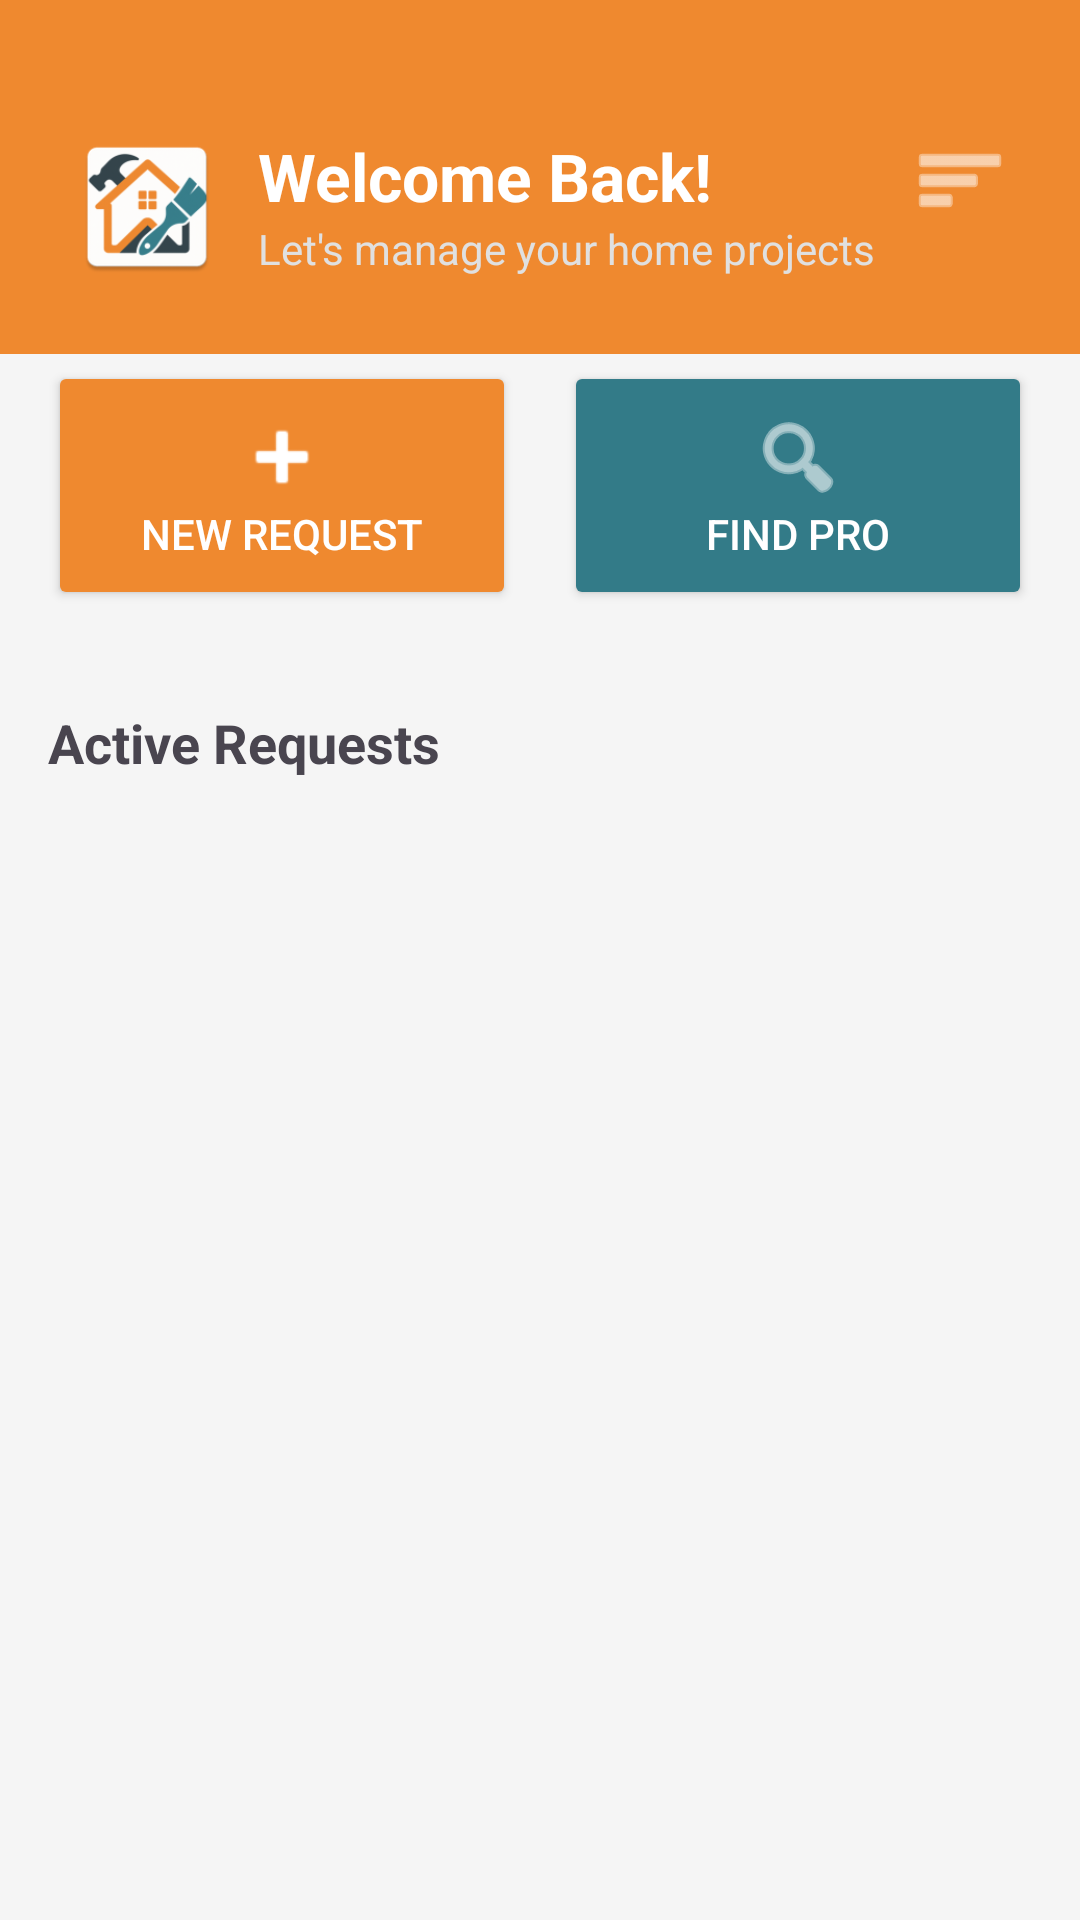

Icon bounding boxes for this 1080 × 1920 phone screenshot, format box=[x1, y1, x2, y2]:
sort by size: box=[919, 154, 1001, 207]
